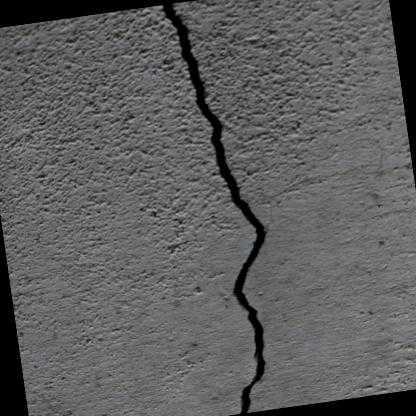crack: (158, 2, 271, 413)
